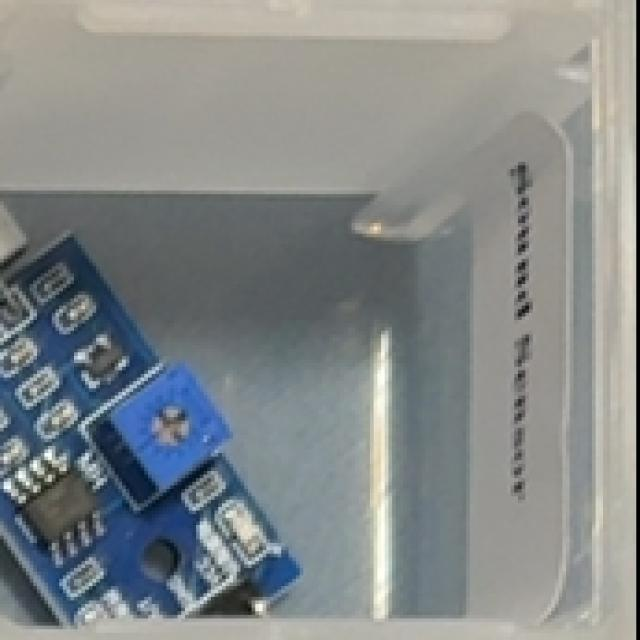Sound Sensor: (0, 192, 298, 640)
